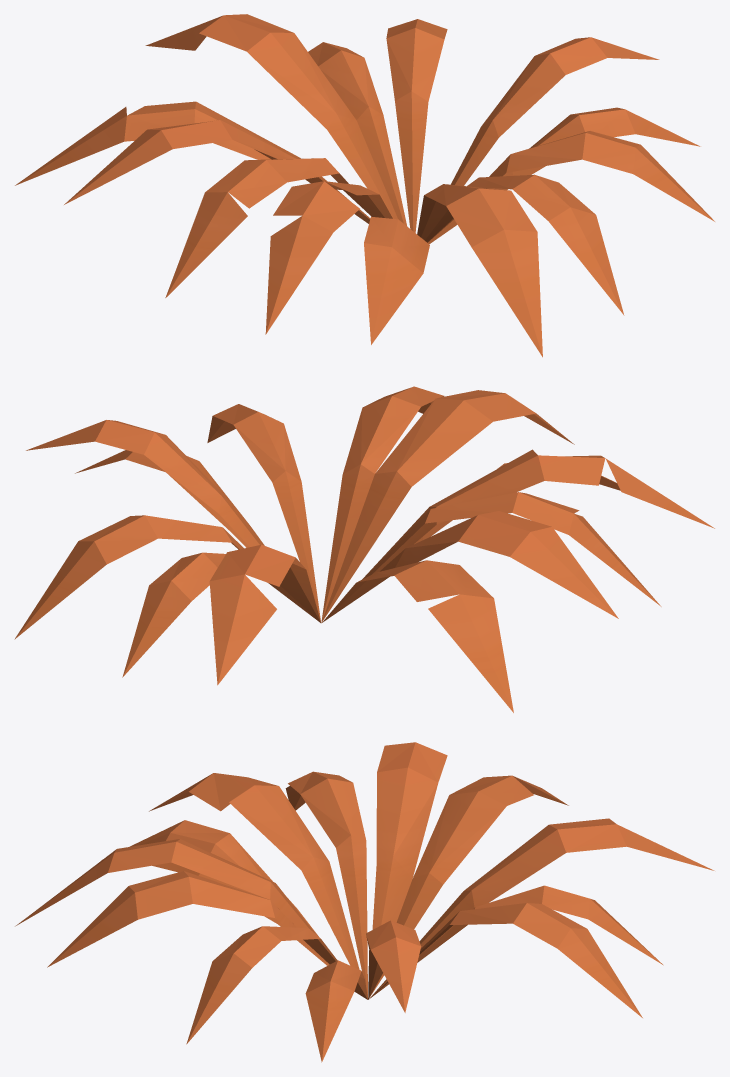
Rendered from plant_low.glb.
3 views of the same model, one above another, from view 1: azimuth 30°, elevation 25°; view 2: azimuth 150°, elevation 25°; view 3: azimuth 270°, elevation 25° (orthographic). The views are drawn at different scales.
Parts seen in each view (by area): view 1: Plant_10_A; view 2: Plant_10_A; view 3: Plant_10_A.
Boxes of the visible parts, x1,y1,x2,y2 form: Plant_10_A: (15,14,714,357); Plant_10_A: (14,386,714,712); Plant_10_A: (15,742,714,1062).
Size of the model in its own units: 0.8394 by 0.2223 by 0.923.
1 material, 1 textured.
